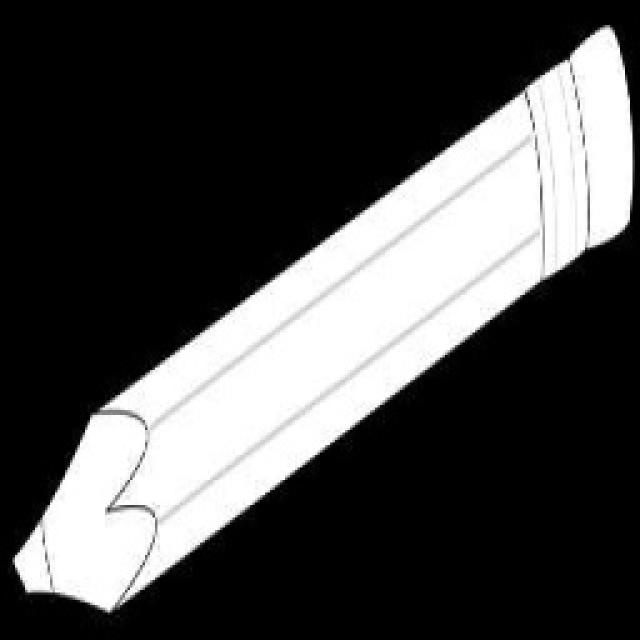pencil: (5, 18, 637, 618)
